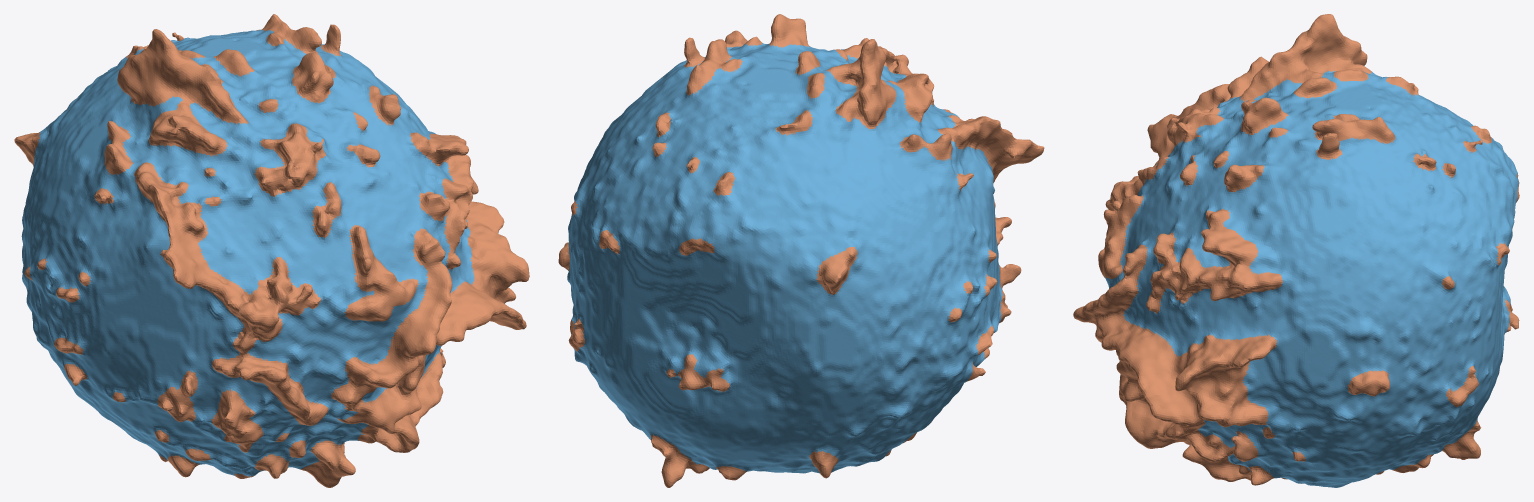
The picture shows the model from 3 angles, left to right: view 1: azimuth 30°, elevation 25°; view 2: azimuth 150°, elevation 25°; view 3: azimuth 270°, elevation 25°; orthographic projection. The views are drawn at different scales.
Size of the model in its own units: 156 by 162 by 157.
